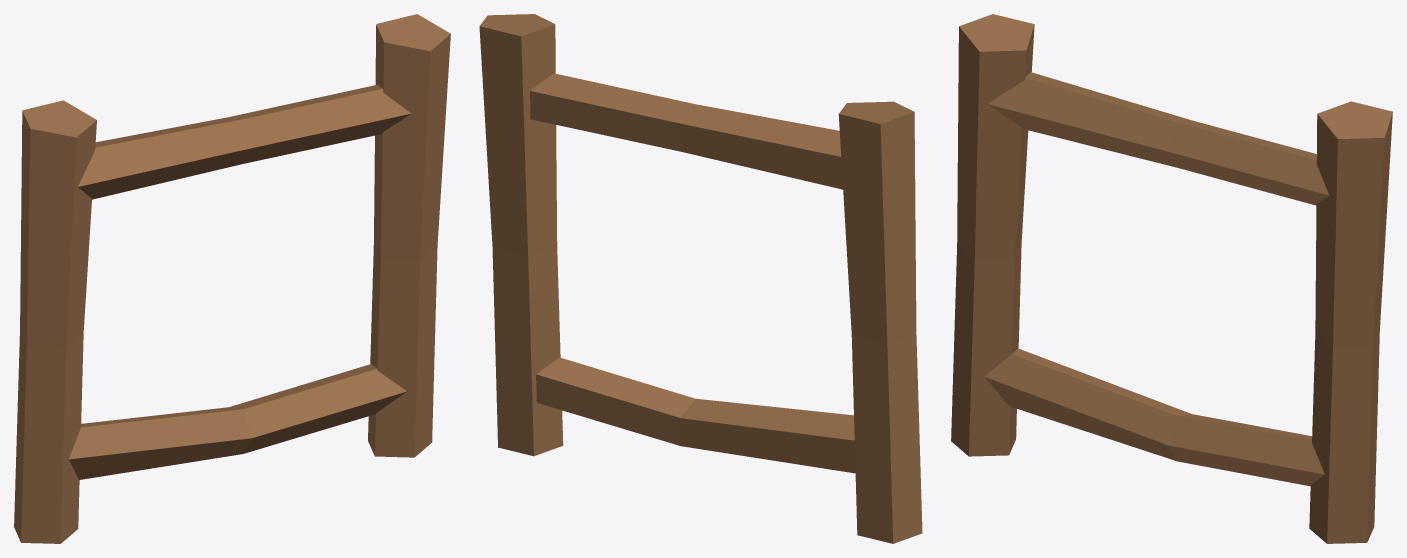
File: Fence_1 Door.fbx
3 views of the same model, side by side, from view 1: azimuth 30°, elevation 25°; view 2: azimuth 150°, elevation 25°; view 3: azimuth 330°, elevation 25° (orthographic).
Visible parts, largest first — view 1: FenceDoor_mesh; view 2: FenceDoor_mesh; view 3: FenceDoor_mesh.
Part boxes in pixels (x1,y1,x2,y2): FenceDoor_mesh: (14, 14, 450, 543); FenceDoor_mesh: (479, 14, 922, 543); FenceDoor_mesh: (951, 14, 1392, 543).
Size of the model in its own units: 79.29 by 72.85 by 10.79.
